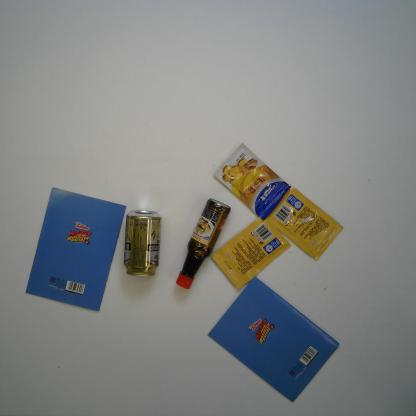Alcohol: (123, 209, 163, 278)
Seasoner: (212, 142, 290, 221), (211, 217, 292, 290), (269, 186, 344, 262), (175, 198, 231, 290)
Stationery: (206, 276, 340, 404), (24, 187, 126, 313)
